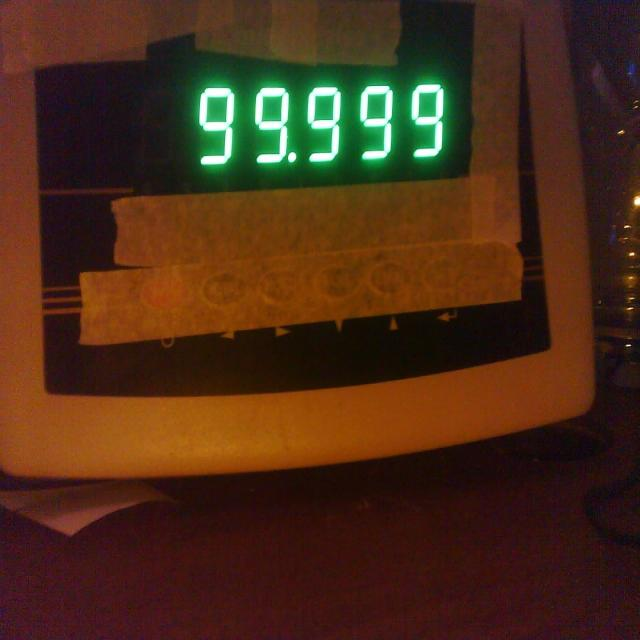.: (286, 150, 299, 164)
9: (196, 50, 236, 203), (252, 50, 291, 202), (306, 74, 342, 176), (358, 84, 393, 161), (410, 82, 445, 159)
